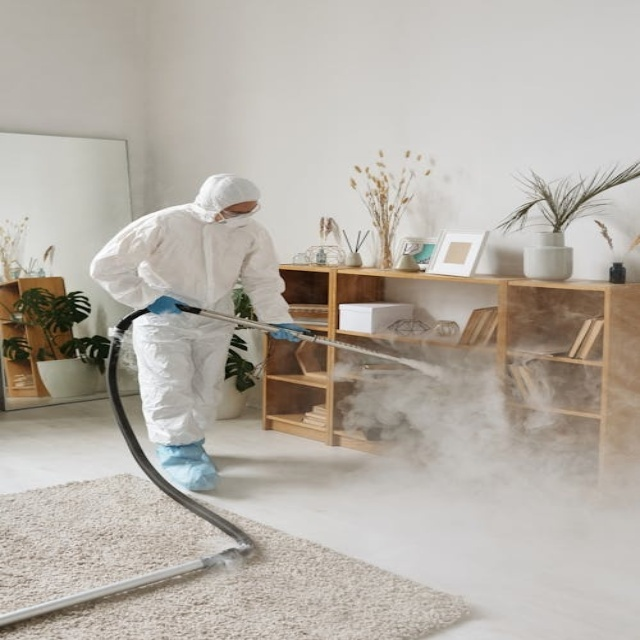Gafas: (220, 201, 259, 219)
Guantes: (147, 294, 189, 316), (268, 323, 311, 342)
Mascara: (214, 208, 256, 229)
